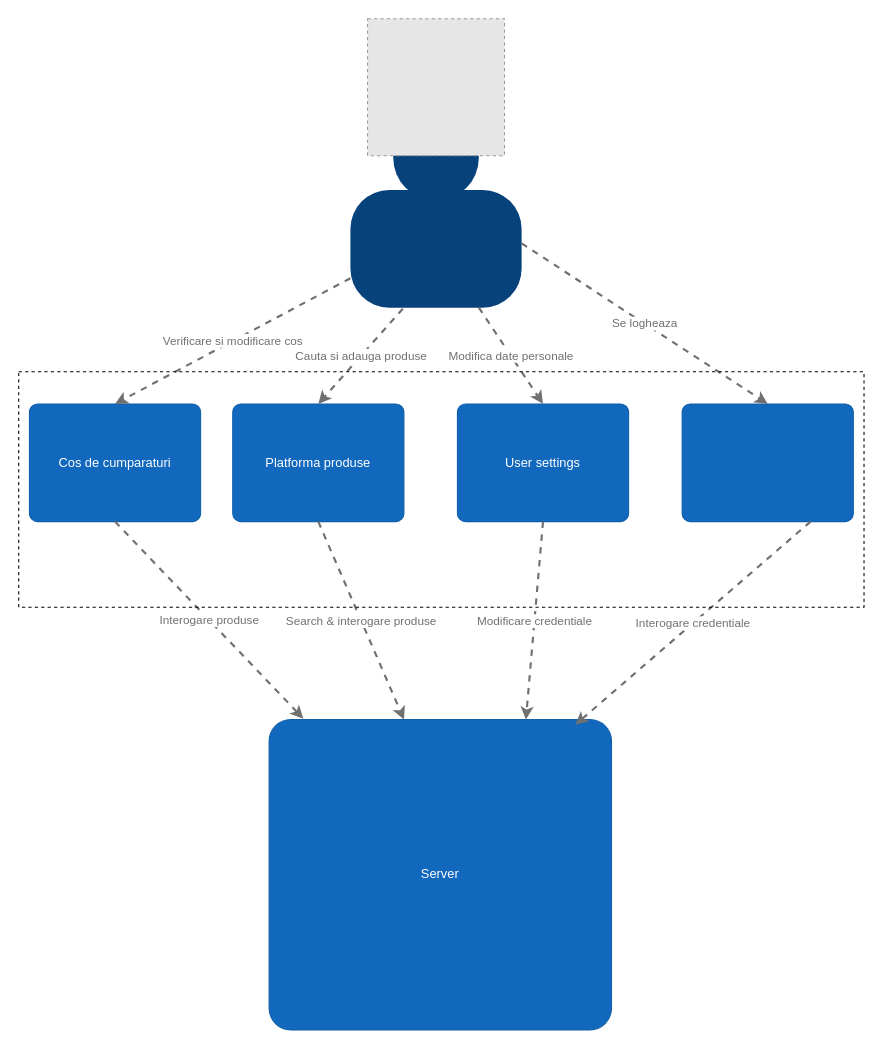
Image size: 883x1049. Some labels were removed from this diagram. Grey dashed boxes stand in for pictures. The centre of each missing label's shape, as x and y in pixels:
"Platforma Login" goes at (x=767, y=462).
"User" goes at (x=435, y=248).
